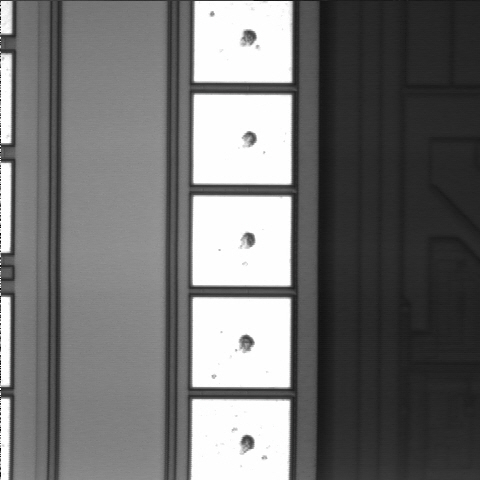pad: (193, 95, 291, 185), (193, 196, 291, 286), (192, 297, 290, 387)
